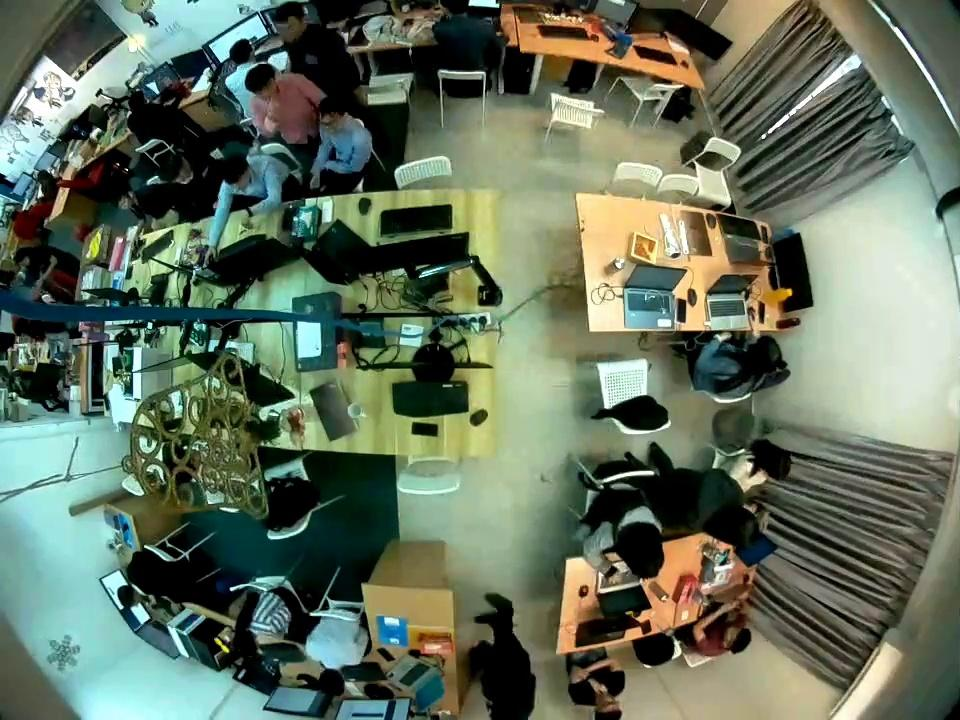people: (640, 442, 764, 554), (462, 589, 548, 720), (561, 484, 662, 592), (269, 0, 371, 101), (208, 149, 296, 254), (308, 89, 388, 201), (689, 321, 789, 403), (239, 68, 324, 148), (296, 609, 364, 700), (714, 428, 796, 502), (557, 646, 639, 720), (226, 588, 297, 670), (687, 599, 777, 662), (426, 0, 502, 72), (100, 553, 171, 622), (156, 147, 226, 208), (106, 183, 179, 241), (206, 37, 264, 104), (119, 83, 184, 138)
